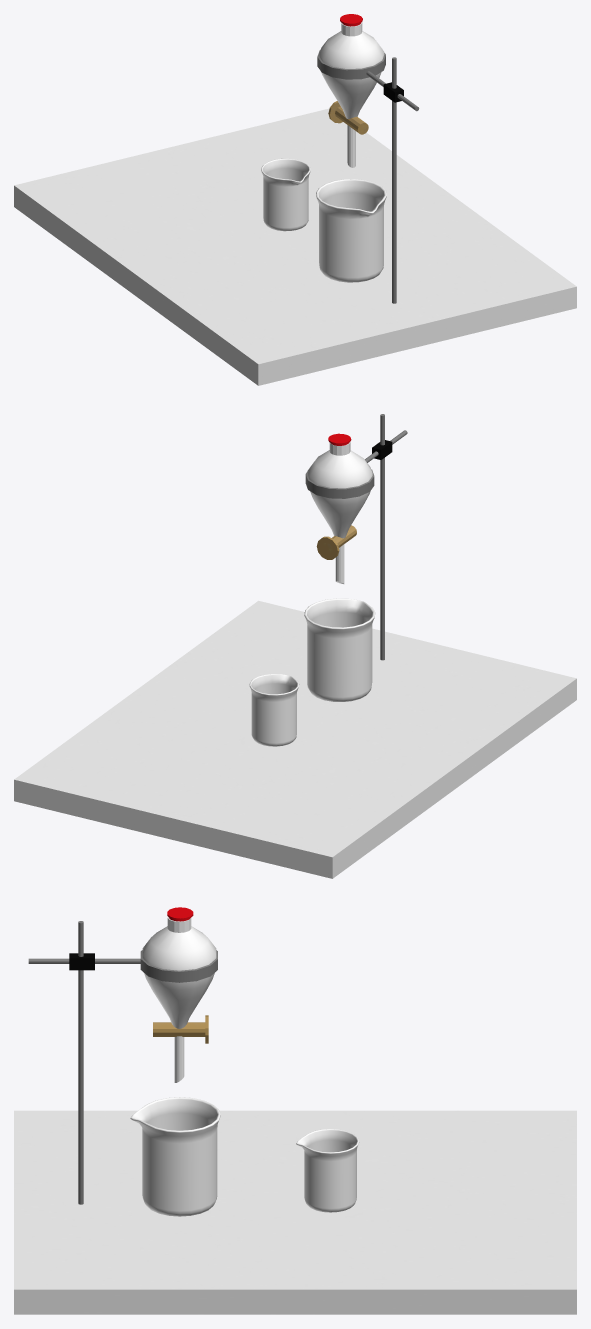
Rendered from Separation of Two Immiscible Liquids.fbx.
3 views of the same model, one above another, from view 1: azimuth 30°, elevation 25°; view 2: azimuth 150°, elevation 25°; view 3: azimuth 270°, elevation 25° (orthographic). The views are drawn at different scales.
Parts seen in each view (by area): view 1: pCube1, Bequer_250mL, pSphere2, Bequer_100mL, pCylinder3, polySurface1, pCylinder6; view 2: pCube1, Bequer_250mL, pSphere2, Bequer_100mL, pCylinder3, polySurface1, pCylinder6; view 3: pCube1, Bequer_250mL, pSphere2, Bequer_100mL, pCylinder3, polySurface1, pCylinder6, pCylinder4.
Boxes of the visible parts, <box> form: pCube1: <box>14,108,576,385</box>; Bequer_250mL: <box>316,179,386,282</box>; pSphere2: <box>319,22,384,167</box>; Bequer_100mL: <box>261,158,310,231</box>; pCylinder3: <box>392,57,396,303</box>; polySurface1: <box>317,50,385,79</box>; pCylinder6: <box>328,101,368,134</box>; pCube1: <box>14,600,576,878</box>; Bequer_250mL: <box>304,598,375,701</box>; pSphere2: <box>307,442,372,583</box>; Bequer_100mL: <box>249,674,299,746</box>; pCylinder3: <box>380,414,384,660</box>; polySurface1: <box>305,469,374,498</box>; pCylinder6: <box>316,525,356,559</box>; pCube1: <box>14,1110,576,1314</box>; Bequer_250mL: <box>130,1097,220,1216</box>; pSphere2: <box>142,916,216,1082</box>; Bequer_100mL: <box>296,1129,359,1212</box>; pCylinder3: <box>78,921,83,1204</box>; polySurface1: <box>140,950,217,982</box>; pCylinder6: <box>153,1015,208,1043</box>; pCylinder4: <box>28,958,140,963</box>.
Bounding box in the file's own units: 50.13 × 41.2 × 66.63.
